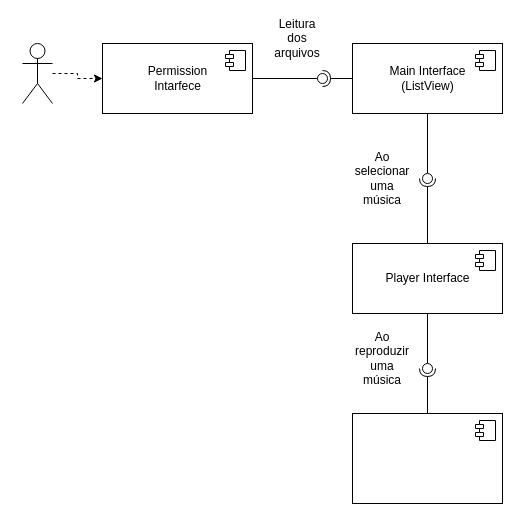
This 520x521 diagram has some shape labels left out. The shapes that lost their labels are listed below. From the top down, each one's box as (x1, y1, x2, y2) in pixels, then its label:
(22, 42, 52, 104): Usuário
(352, 412, 502, 504): Audio visualizer
